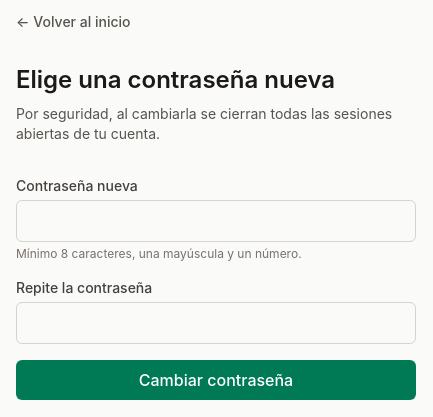
recuperación de contraseña › envía el token y la contraseña cuando todo es válido
This screenshot has width=433, height=417.
Type "NuevaClave1" into the password field labelled "Contraseña nueva". click: x=216, y=221
box: [16,200,416,242]
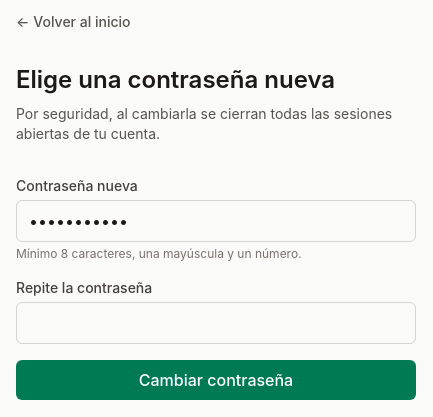
Type "NuevaClave1" into the password field labelled "Repite la contraseña". click: x=216, y=323
box: [16,302,416,344]
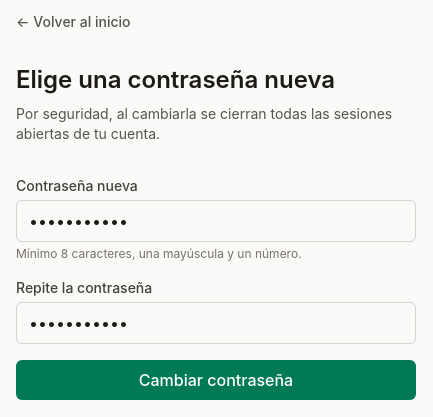
Submit the form named "Cambiar contraseña", box [16,176,416,400]
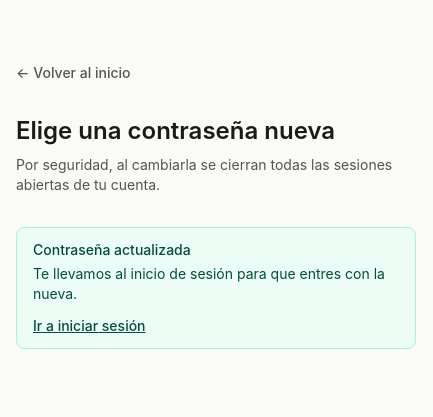
expect the message shows "Contraseña actualizada": met, box [33,241,191,258]
